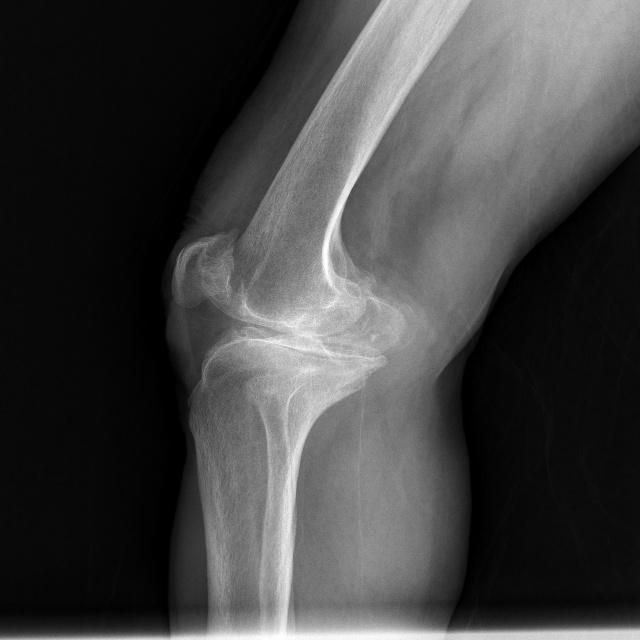Knee: (168, 219, 409, 407)
